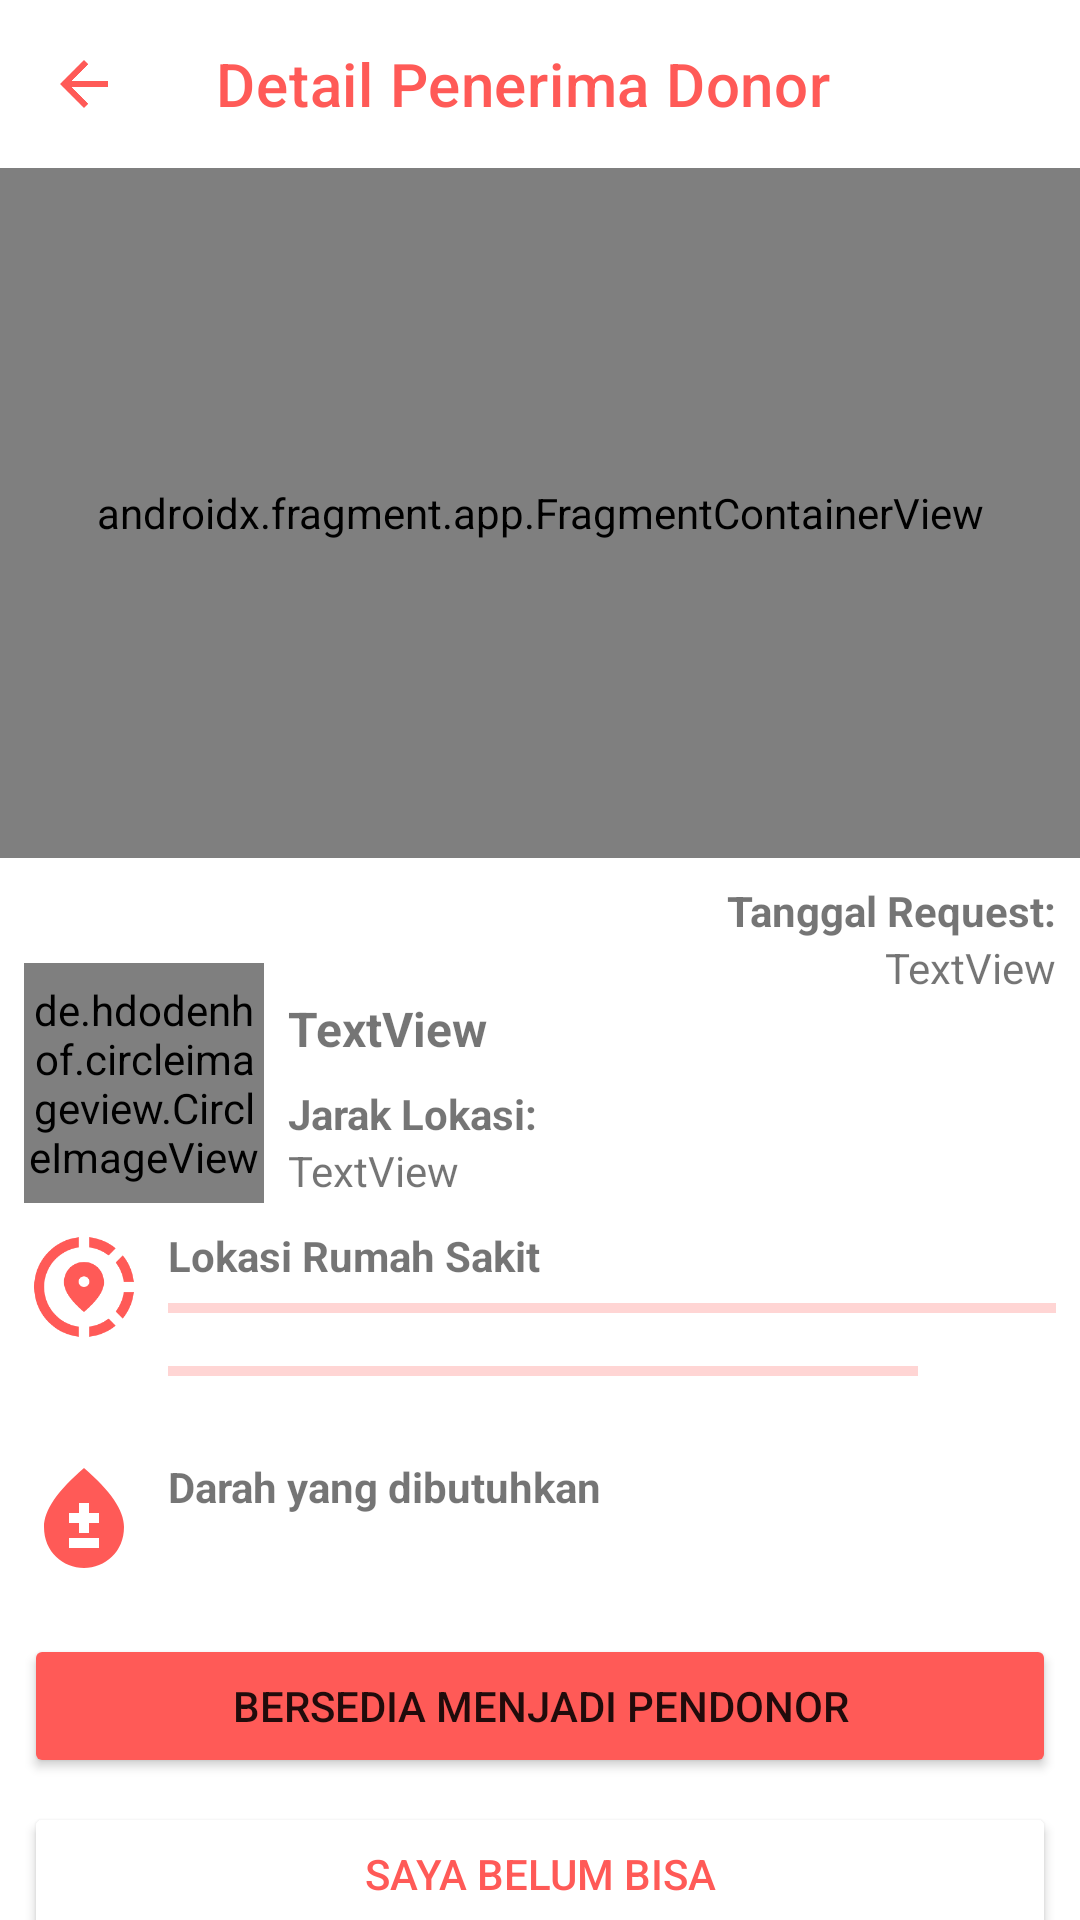

Icons on this 1080×1920 Android screen, each with its box as region(x1, y1, x2, y2):
bloodtype: region(44, 1468, 124, 1568)
share location: region(34, 1237, 134, 1337)
